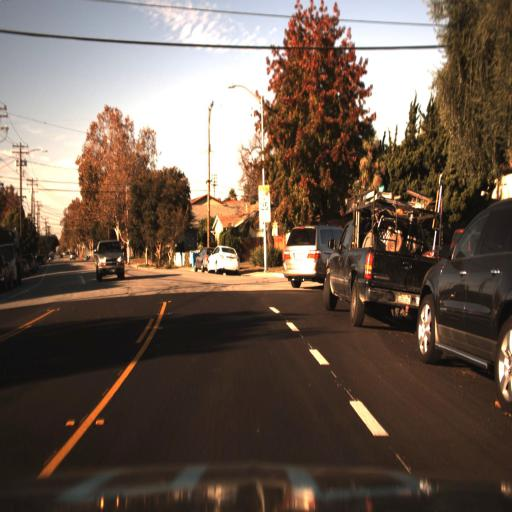car: (414, 196, 512, 401), (321, 189, 450, 319), (282, 226, 346, 283), (95, 236, 124, 285), (206, 242, 242, 272), (193, 247, 207, 275), (65, 247, 81, 262)
truck: (5, 228, 21, 291)
